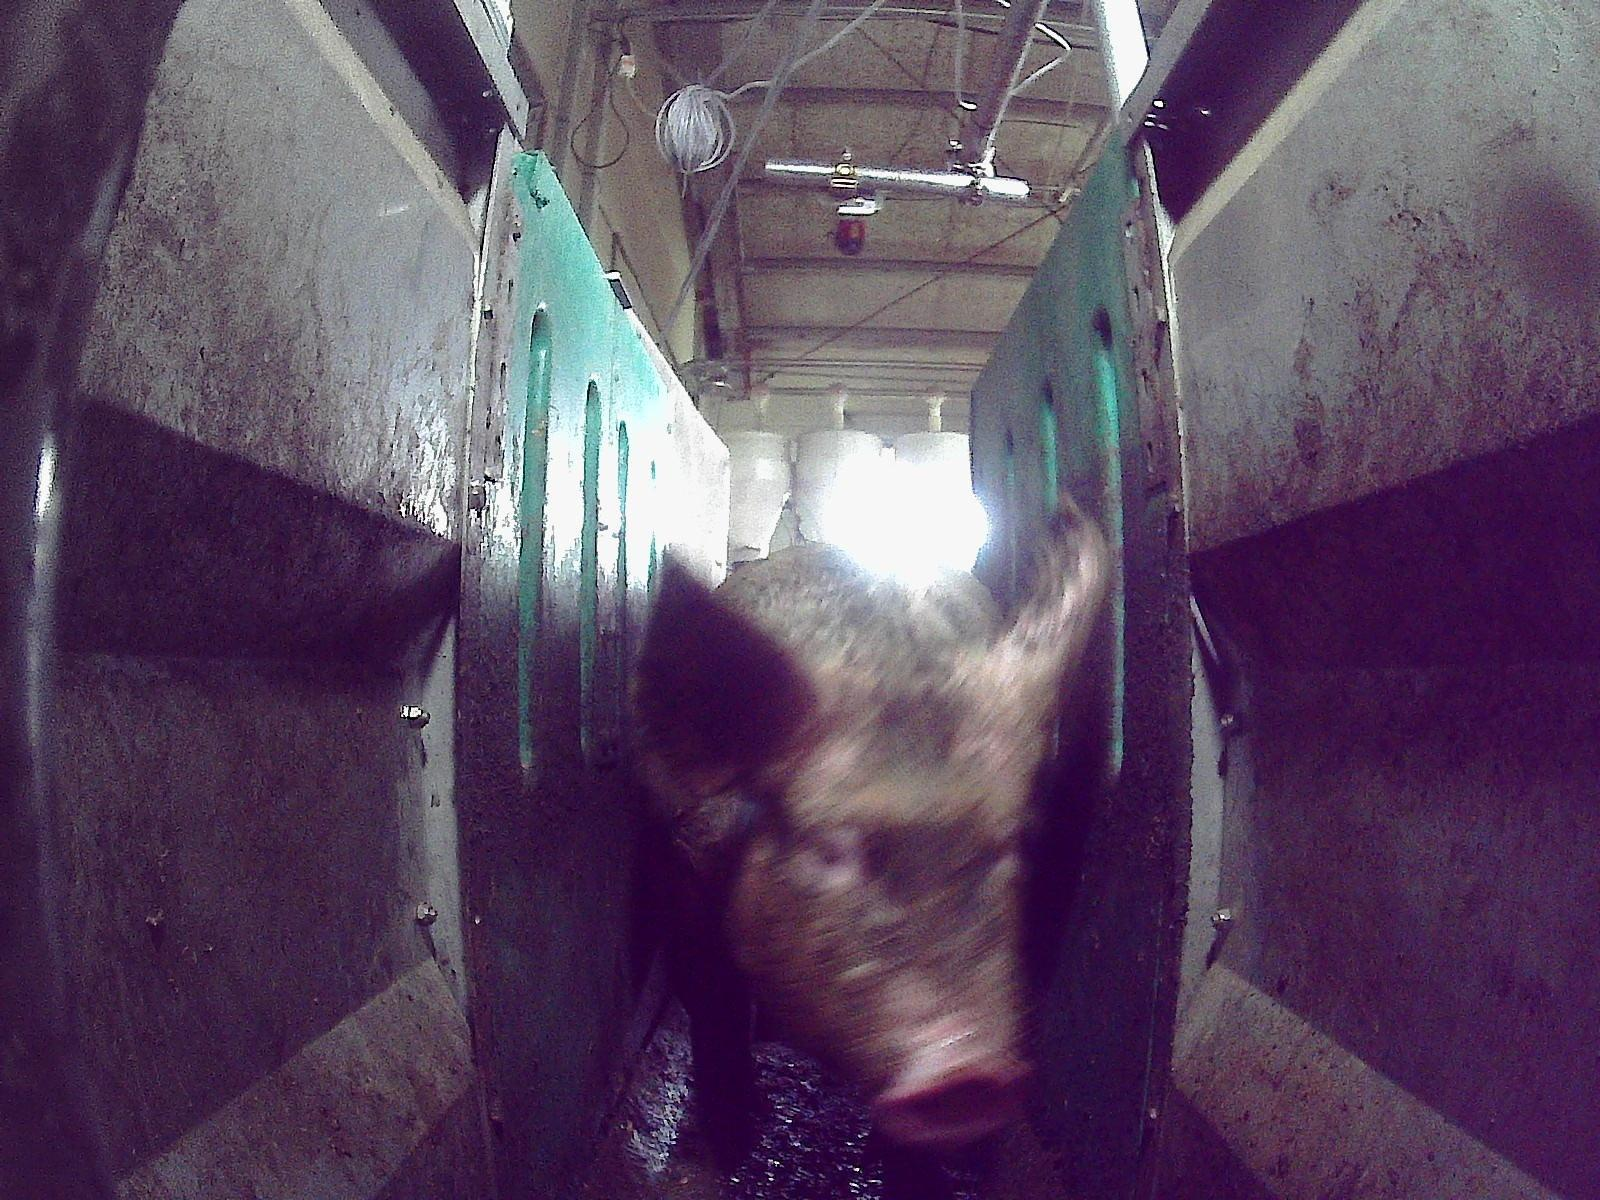Face: (707, 630, 1036, 1148)
